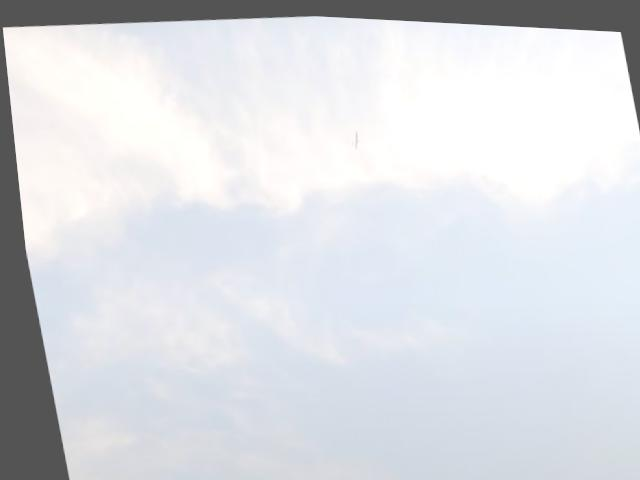iha: (344, 125, 362, 146)
